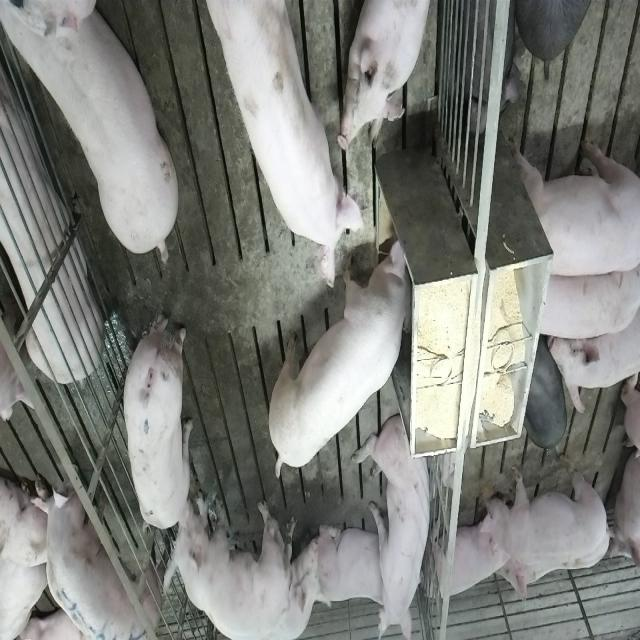Feeding: (200, 5, 370, 296), (271, 232, 421, 478)
Sitting: (160, 493, 296, 638), (356, 406, 436, 636)
Standing: (5, 5, 184, 267), (28, 448, 157, 640), (511, 134, 638, 276), (121, 306, 196, 536), (481, 458, 613, 562), (550, 278, 640, 414), (530, 263, 640, 339)
Sternal_lying: (0, 46, 101, 412), (343, 0, 438, 152), (297, 518, 391, 610), (429, 508, 507, 604)
